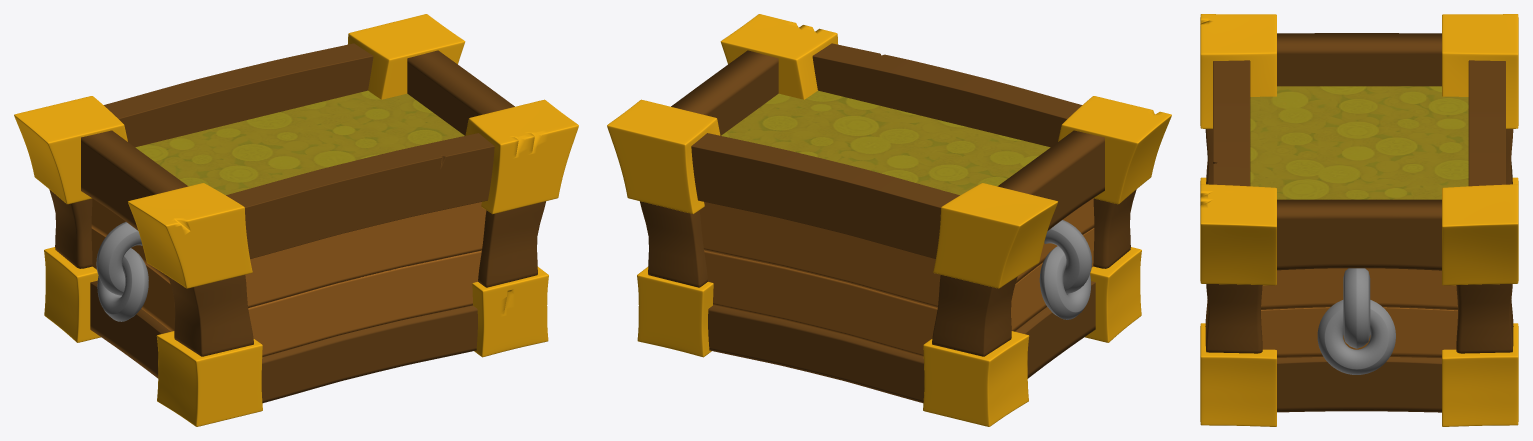
File: chest_bottom.glb
The picture shows the model from 3 angles, left to right: view 1: azimuth 30°, elevation 25°; view 2: azimuth 150°, elevation 25°; view 3: azimuth 270°, elevation 25°; orthographic projection. The views are drawn at different scales.
Visible parts, largest first — view 1: Cube.009; view 2: Cube.009; view 3: Cube.009.
Part boxes in pixels (x1,y1,x2,y2): Cube.009: (14,14,578,426); Cube.009: (607,14,1171,426); Cube.009: (1200,14,1518,426).
Bounding box in the file's own units: 1.15 × 0.5503 × 0.7287.
Materials: 5 (1 with a texture image).
